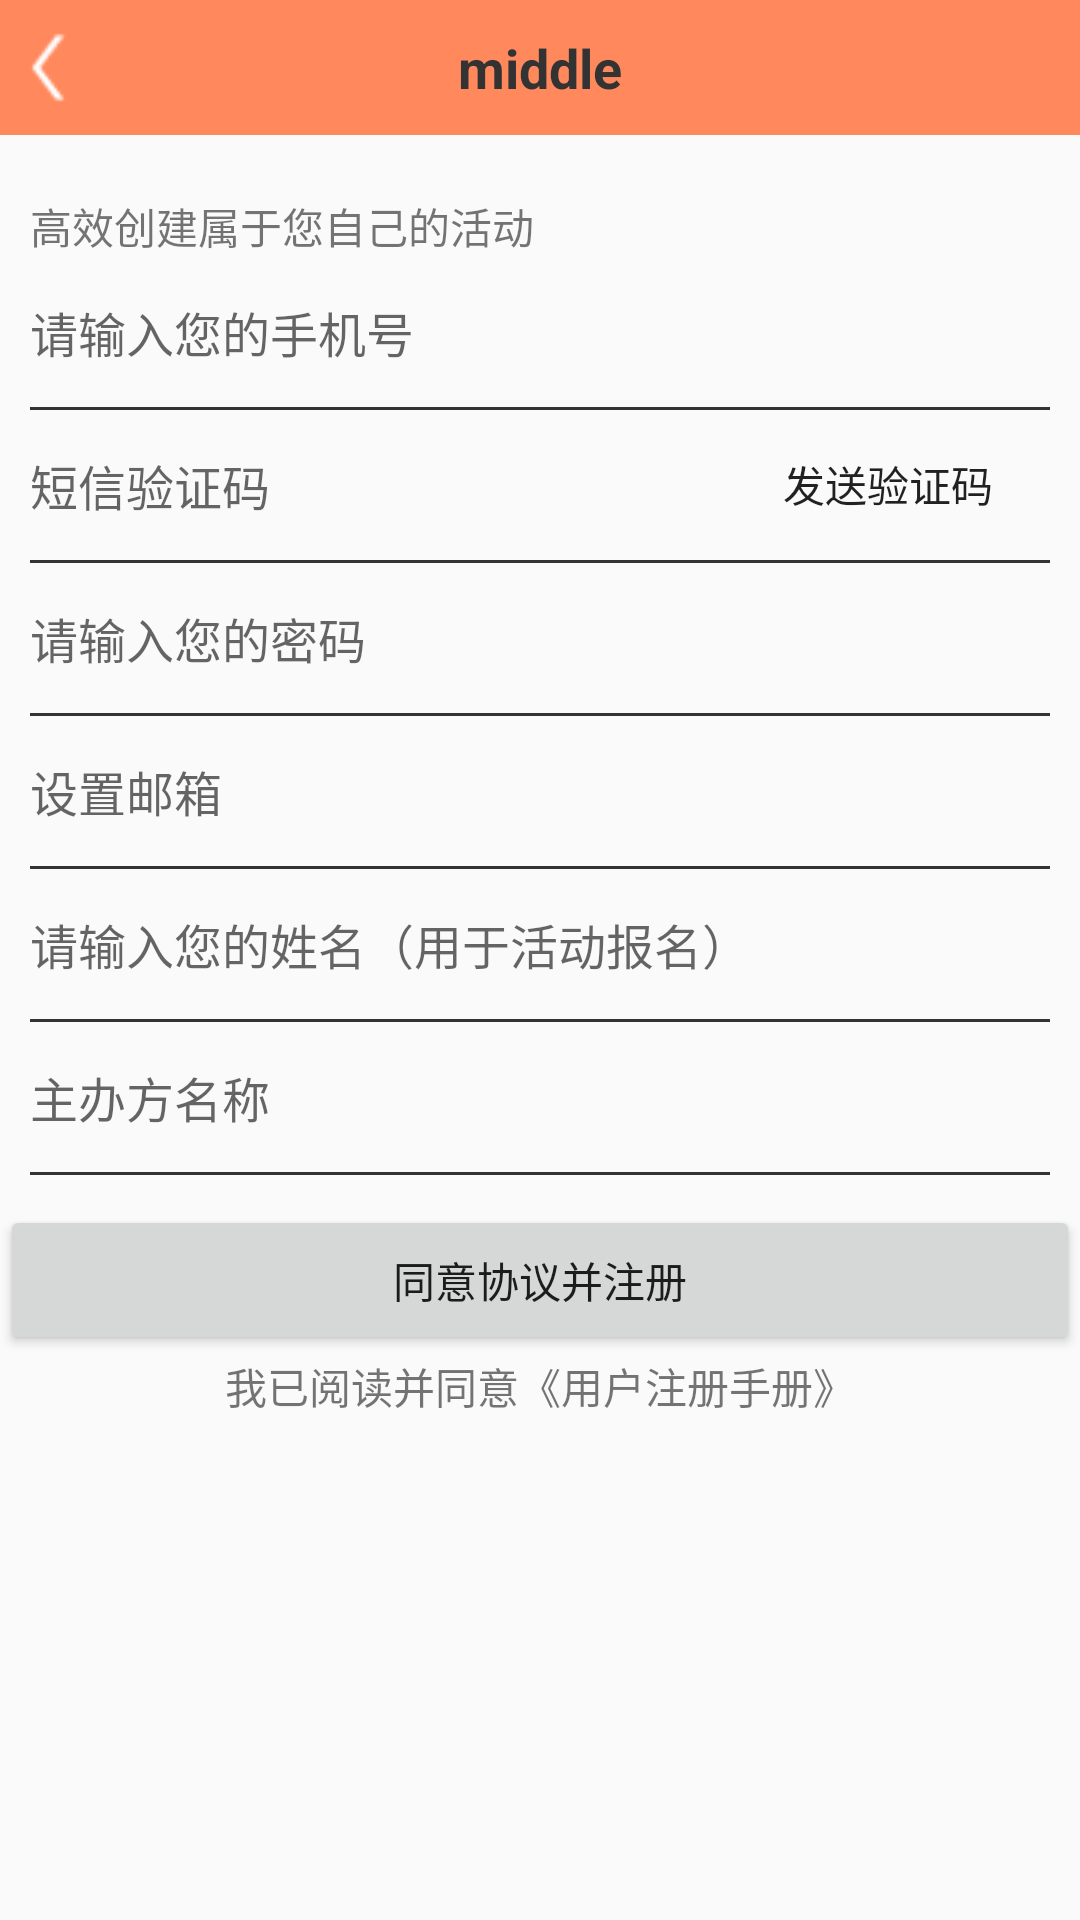

Icons on this 1080x1920 Android screen, each with the point to tap as (x=x, y=y):
back: (x=48, y=67)
